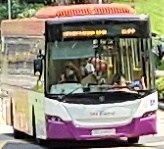bus: (113, 21, 140, 36)
